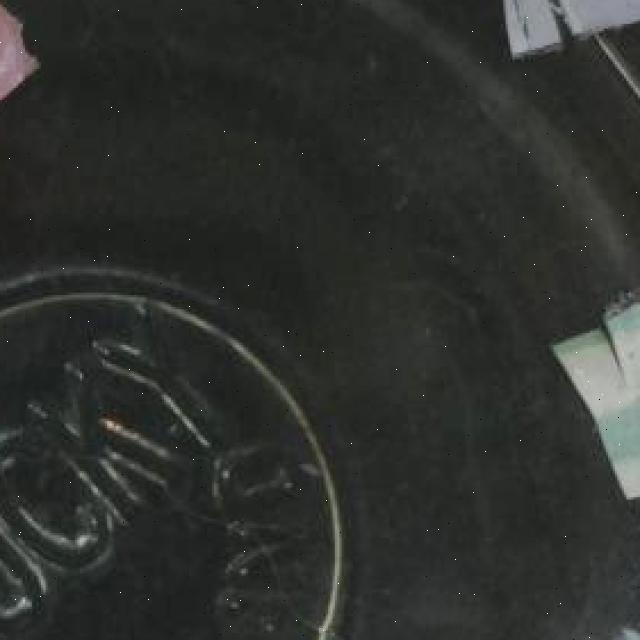Microplastic: (542, 271, 640, 507)
